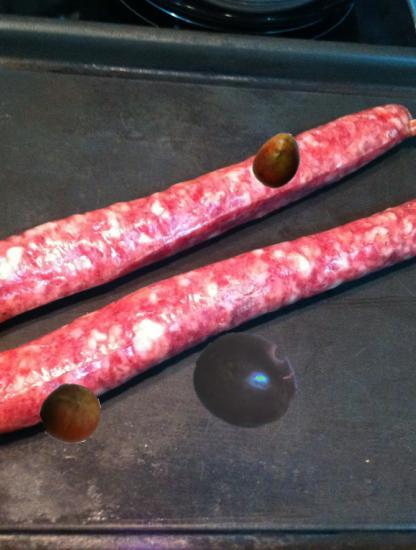Mango: (249, 131, 308, 190)
Nut: (41, 383, 102, 444)
Passion: (194, 329, 299, 434)
